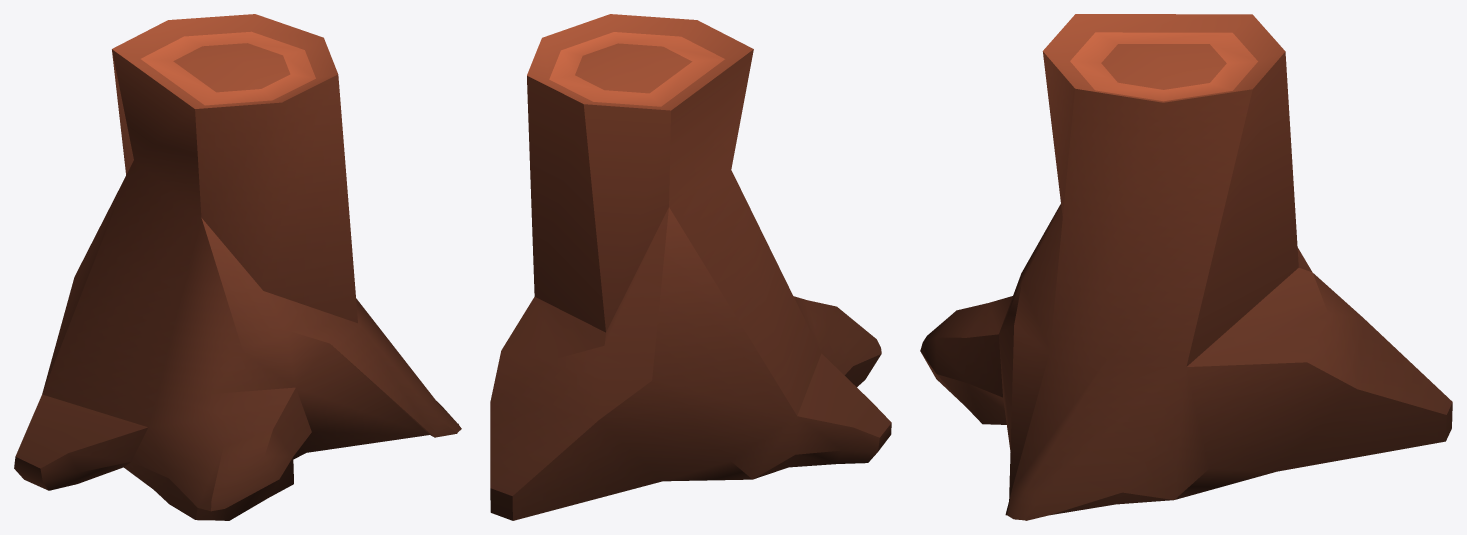
File: Trunk_C_1.fbx
3 renders of one model, left to right at view 1: azimuth 30°, elevation 25°; view 2: azimuth 150°, elevation 25°; view 3: azimuth 270°, elevation 25°, orthographic. The views are drawn at different scales.
Parts seen in each view (by area): view 1: Trunk_C_1; view 2: Trunk_C_1; view 3: Trunk_C_1.
Part boxes in pixels (x1,y1,x2,y2): Trunk_C_1: (14, 14, 461, 520); Trunk_C_1: (490, 14, 891, 520); Trunk_C_1: (920, 14, 1452, 520).
Size of the model in its own units: 65.99 by 57.18 by 72.33.
